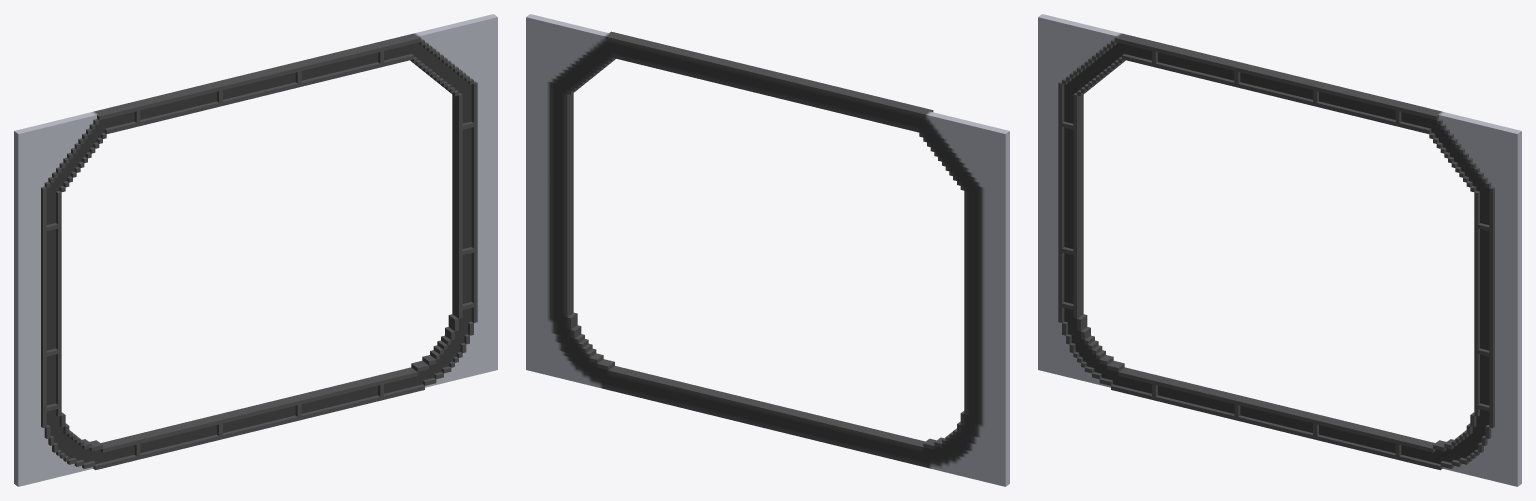
Rendered from Frame_Mixed.obj.
The picture shows the model from 3 angles, left to right: view 1: azimuth 30°, elevation 25°; view 2: azimuth 150°, elevation 25°; view 3: azimuth 330°, elevation 25°; orthographic projection.
Visible parts, largest first — view 1: Frame_Mixed; view 2: Frame_Mixed; view 3: Frame_Mixed.
Boxes of the visible parts, <box> form: Frame_Mixed: <box>14,14,497,486</box>; Frame_Mixed: <box>526,14,1009,486</box>; Frame_Mixed: <box>1038,14,1521,486</box>.
Size of the model in its own units: 128 by 90 by 3.
Materials: 1 (1 with a texture image).
